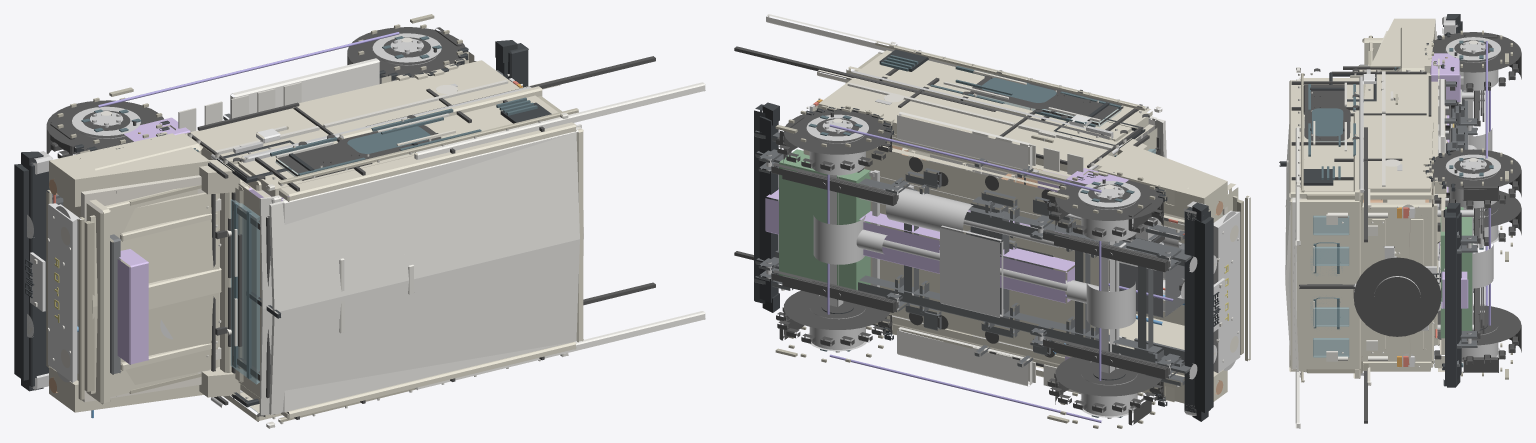
File: j40_full_vehicle_scaffold_rev_c.gltf
3 views of the same model, side by side, from view 1: azimuth 30°, elevation 25°; view 2: azimuth 150°, elevation 25°; view 3: azimuth 270°, elevation 25° (orthographic). The views are drawn at different scales.
Visible parts, largest first — view 1: white_hardtop_crowned_roof_skin, hood_crowned_closed_skin, white_hardtop_roof, right_rear_quarter_waist_tapered_surface, right_front_fender_sloped_outer_skin, front_grille_inset_rounded_surround_surface, windshield_raked_glass_surface, right_hardtop_side_panel, fan_radiator_clearance_envelope, right_door_outer_skin_tapered_surface, front_bumper_swept_main_face, grille_panel (+39 smaller); view 2: floor_pan, rear_underfloor_fuel_tank, skid_plate_transfer_case, right_rear_quarter_waist_tapered_surface, left_frame_rail, front_bumper_swept_main_face, right_side_step_board, left_side_step_board, front_grille_inset_rounded_surround_surface, right_front_fender_sloped_outer_skin, right_hardtop_side_tapered_upper_skin, rear_prop_shaft_clearance_tunnel (+55 smaller); view 3: rear_hardtop_panel, rear_spare_tire, right_rear_quarter_waist_tapered_surface, tailgate_panel, right_hardtop_side_tapered_upper_skin, right_door_outer_skin_tapered_surface, rear_bumper, rear_right_tire_tire, right_front_fender_sloped_outer_skin, front_right_tire_tire, rear_left_tire_tire, rear_underfloor_fuel_tank (+54 smaller).
Part boxes in pixels (box(x1,y1,x2,y2)): white_hardtop_crowned_roof_skin: box(269, 132, 579, 414); hood_crowned_closed_skin: box(89, 192, 219, 393); white_hardtop_roof: box(281, 126, 583, 412); right_rear_quarter_waist_tapered_surface: box(293, 60, 519, 133); right_front_fender_sloped_outer_skin: box(49, 133, 210, 206); front_grille_inset_rounded_surround_surface: box(48, 203, 77, 382); windshield_raked_glass_surface: box(230, 199, 259, 384); right_hardtop_side_panel: box(279, 97, 576, 201); fan_radiator_clearance_envelope: box(117, 249, 148, 364); right_door_outer_skin_tapered_surface: box(185, 108, 328, 164); front_bumper_swept_main_face: box(14, 164, 28, 380); grille_panel: box(63, 199, 110, 404); floor_pan: box(803, 146, 1109, 357); rear_underfloor_fuel_tank: box(779, 149, 870, 290); skid_plate_transfer_case: box(940, 225, 1003, 317); right_rear_quarter_waist_tapered_surface: box(818, 78, 1023, 138); left_frame_rail: box(858, 275, 1163, 362); front_bumper_swept_main_face: box(1194, 216, 1213, 412); right_side_step_board: box(897, 111, 1032, 170); left_side_step_board: box(897, 327, 1032, 386); front_grille_inset_rounded_surround_surface: box(1213, 211, 1240, 373); right_front_fender_sloped_outer_skin: box(1097, 145, 1227, 217); right_hardtop_side_tapered_upper_skin: box(858, 51, 1148, 141); rear_prop_shaft_clearance_tunnel: box(765, 188, 939, 273); rear_hardtop_panel: box(1289, 198, 1360, 369); rear_spare_tire: box(1353, 257, 1441, 336); right_rear_quarter_waist_tapered_surface: box(1363, 114, 1433, 192); tailgate_panel: box(1361, 202, 1433, 361); right_hardtop_side_tapered_upper_skin: box(1303, 78, 1363, 199); right_door_outer_skin_tapered_surface: box(1363, 73, 1430, 114); rear_bumper: box(1443, 209, 1456, 386); rear_right_tire_tire: box(1429, 149, 1521, 196); right_front_fender_sloped_outer_skin: box(1370, 18, 1435, 73); front_right_tire_tire: box(1432, 32, 1521, 79); rear_left_tire_tire: box(1434, 305, 1521, 352); rear_underfloor_fuel_tank: box(1440, 207, 1472, 338).
Size of the model in its own units: 4.47 by 1.96 by 1.99.
